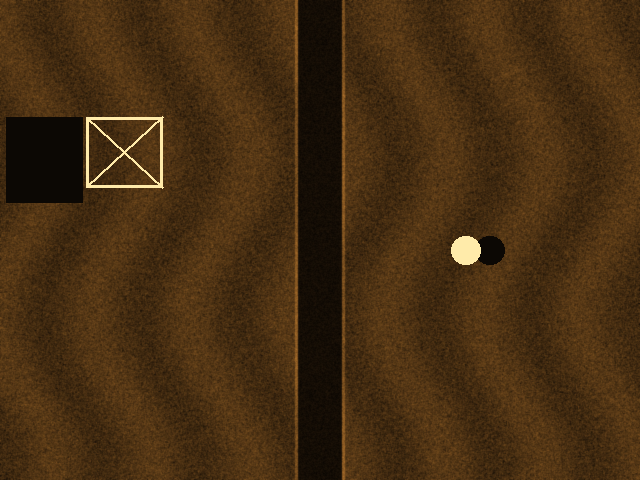Abandoned Equipment: (86, 117, 162, 187)
Glass Debris: (451, 236, 480, 264)
